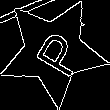P_NW: (23, 22, 83, 80)
